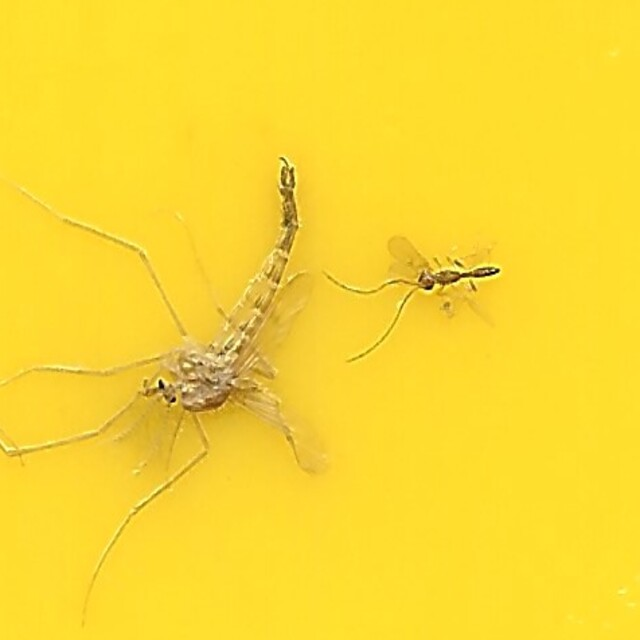Hymenoptera: (323, 237, 506, 367)
Nematocera: (134, 154, 324, 486)
